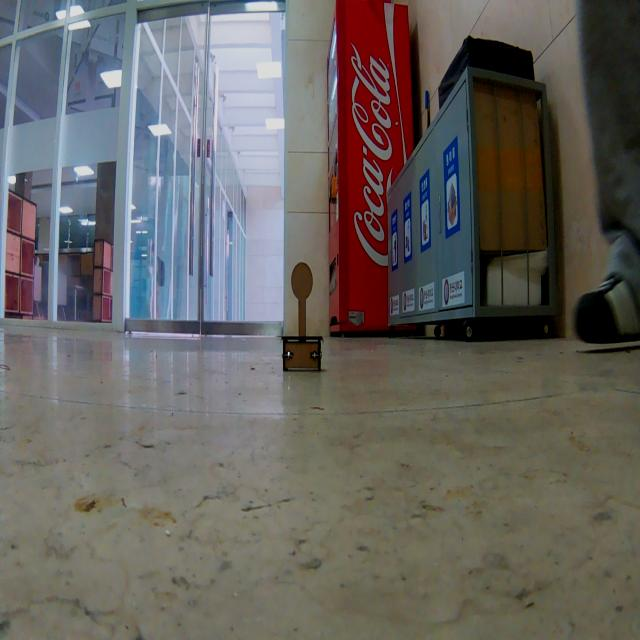target: (281, 262, 324, 372)
